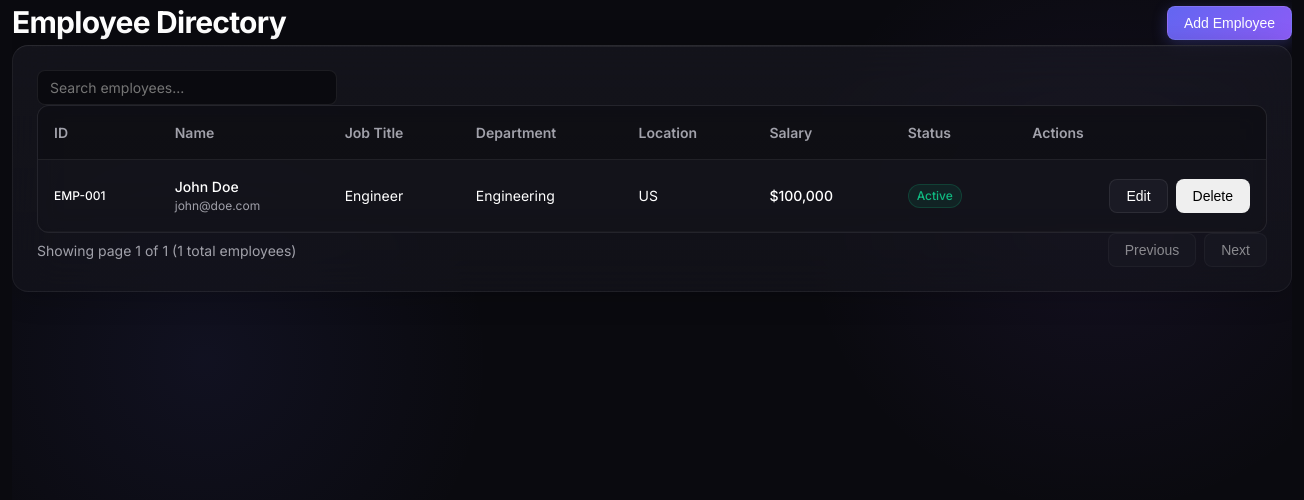
EmployeesPage › opens delete confirmation dialog
// Find the delete button
Click the button "Delete" at (1213, 196), box [1176,178,1250,212]
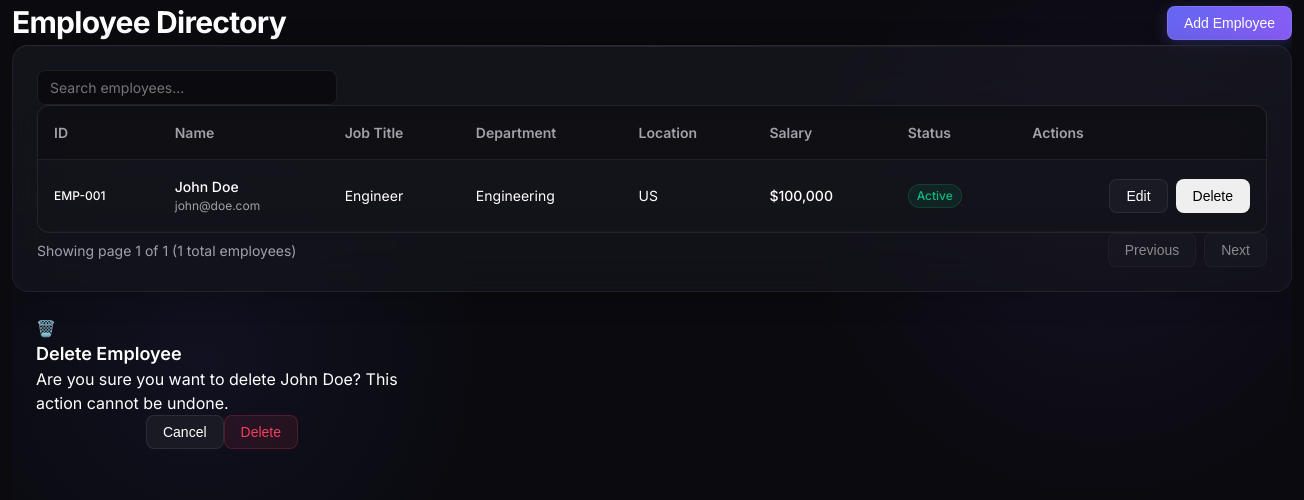
Check: the text "Are you sure you want to delete" is shown, box [36,369,398,413]
